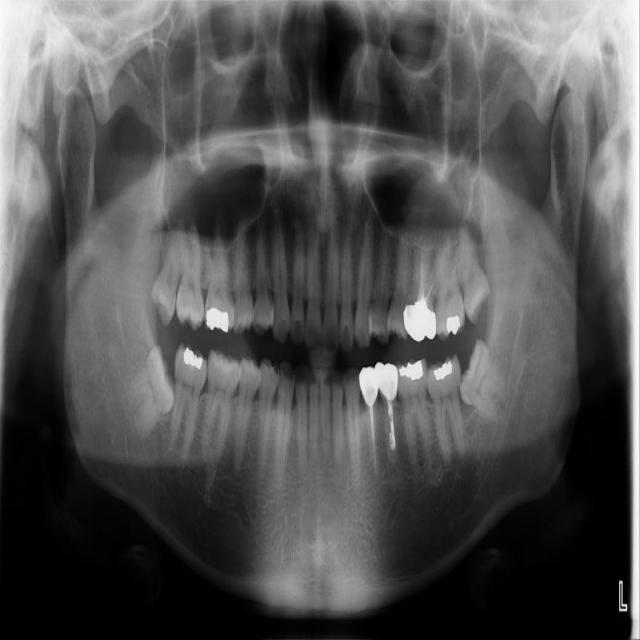3M ESPE Implant: (146, 216, 192, 327)
52: (166, 340, 215, 393), (421, 352, 466, 402), (434, 287, 466, 341), (393, 357, 430, 403), (404, 293, 437, 343), (202, 289, 236, 334), (373, 362, 401, 404), (357, 364, 382, 409)
73: (408, 222, 448, 300), (382, 394, 399, 464), (365, 400, 378, 477), (596, 590, 611, 608)
BioHorizons Implant: (434, 231, 466, 340)
BioLife Implant: (452, 216, 494, 325)
Biomet 3i Implant: (442, 338, 520, 433)
Blue Sky Bio Implant: (422, 353, 476, 468)
Caries: (173, 222, 204, 332)
Implant: (167, 341, 210, 464)
Keystone Dental Implant: (113, 343, 186, 437)
